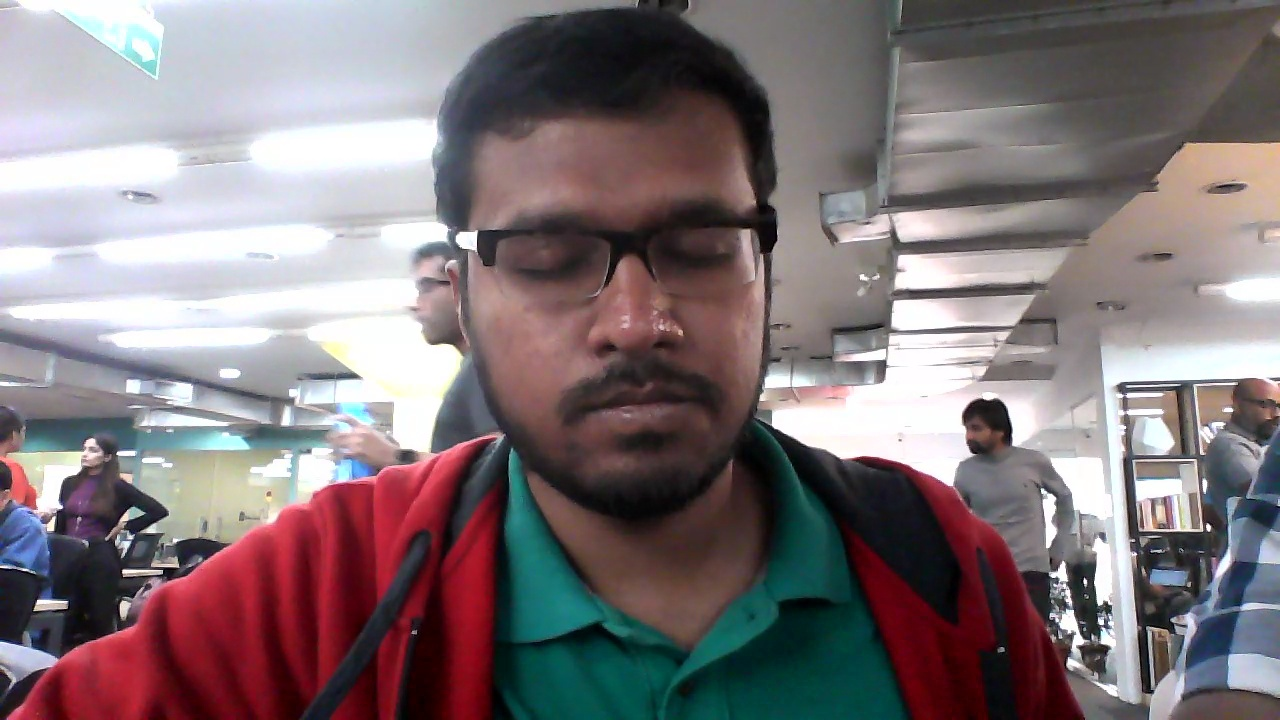closed: (439, 14, 784, 514)
